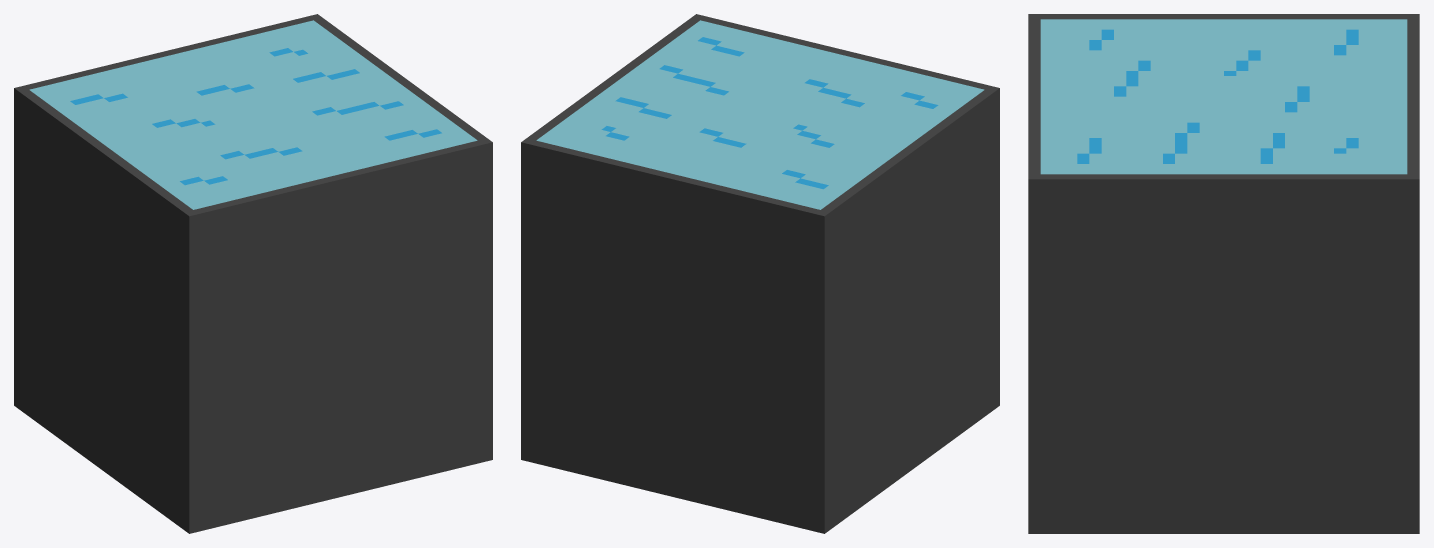
The model's file is water.glb.
The picture shows the model from 3 angles, left to right: view 1: azimuth 30°, elevation 25°; view 2: azimuth 150°, elevation 25°; view 3: azimuth 270°, elevation 25°; orthographic projection. The views are drawn at different scales.
Parts seen in each view (by area): view 1: Node; view 2: Node; view 3: Node.
Part boxes in pixels (bbox=[...]): Node: bbox=[14, 14, 492, 533]; Node: bbox=[521, 14, 999, 533]; Node: bbox=[1028, 14, 1419, 533].
Bounding box in the file's own units: 3.2 × 3.2 × 3.2.
Materials: 1 (1 with a texture image).
